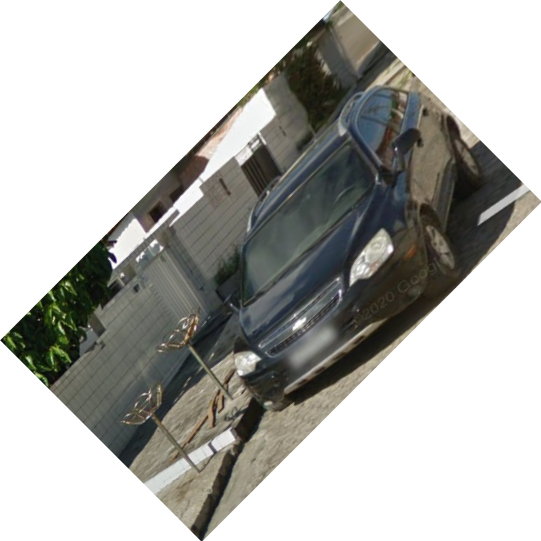car: (218, 84, 486, 413)
